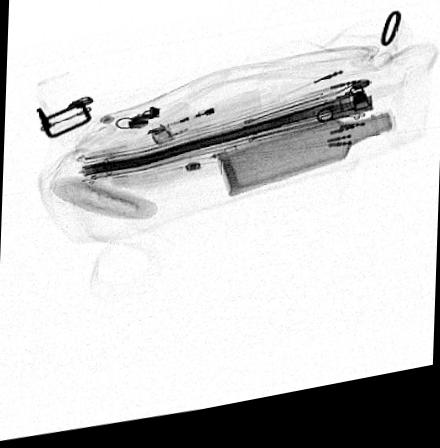Lighter: (147, 97, 260, 150)
